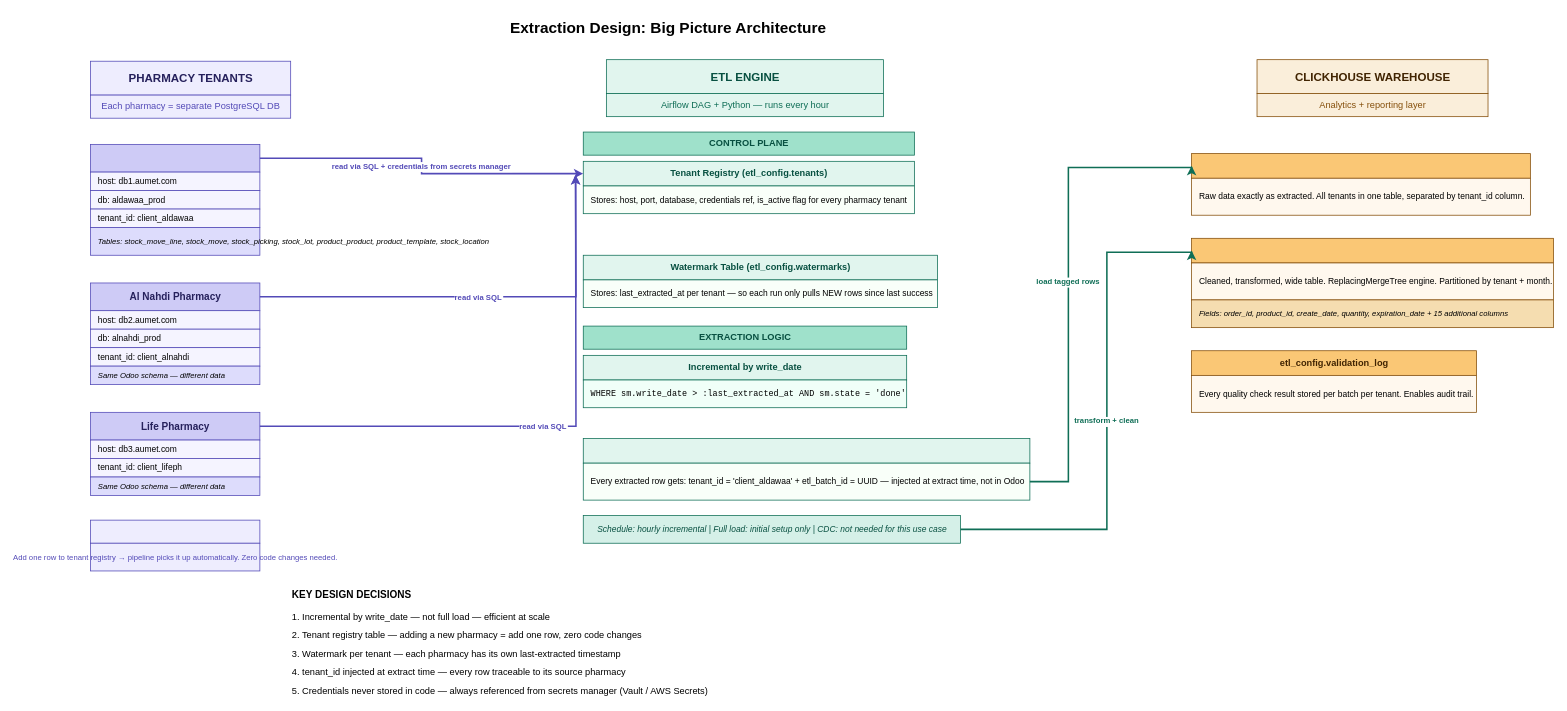
The diagram is 1567 pixels wide and 711 high, and some of its shapes have lost their labels. Each missing label, with the centre of its shape:
"+ Any new pharmacy client" goes at [175,531].
"Al Dawaa Pharmacy" goes at [175,158].
"reporting.fact_stock_movements" goes at [1372,250].
"staging.stg_stock_movements" goes at [1360,165].
"Tenant Tagging" goes at [806,450].
